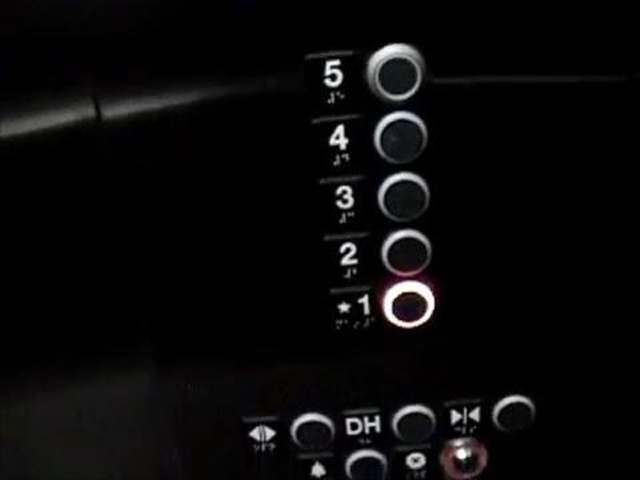2: (319, 230, 438, 283)
3: (311, 169, 435, 228)
4: (305, 109, 434, 169)
5: (300, 39, 429, 112)
DH: (340, 403, 438, 446)
alarm: (305, 447, 393, 480)
close: (441, 392, 541, 437)
open: (239, 410, 337, 455)
s1: (323, 279, 440, 336)
stop: (391, 436, 492, 480)
